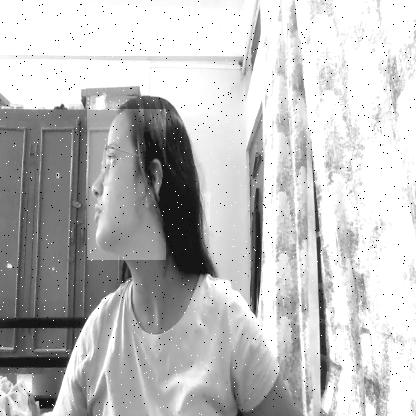Distracted: (87, 109, 166, 260)
